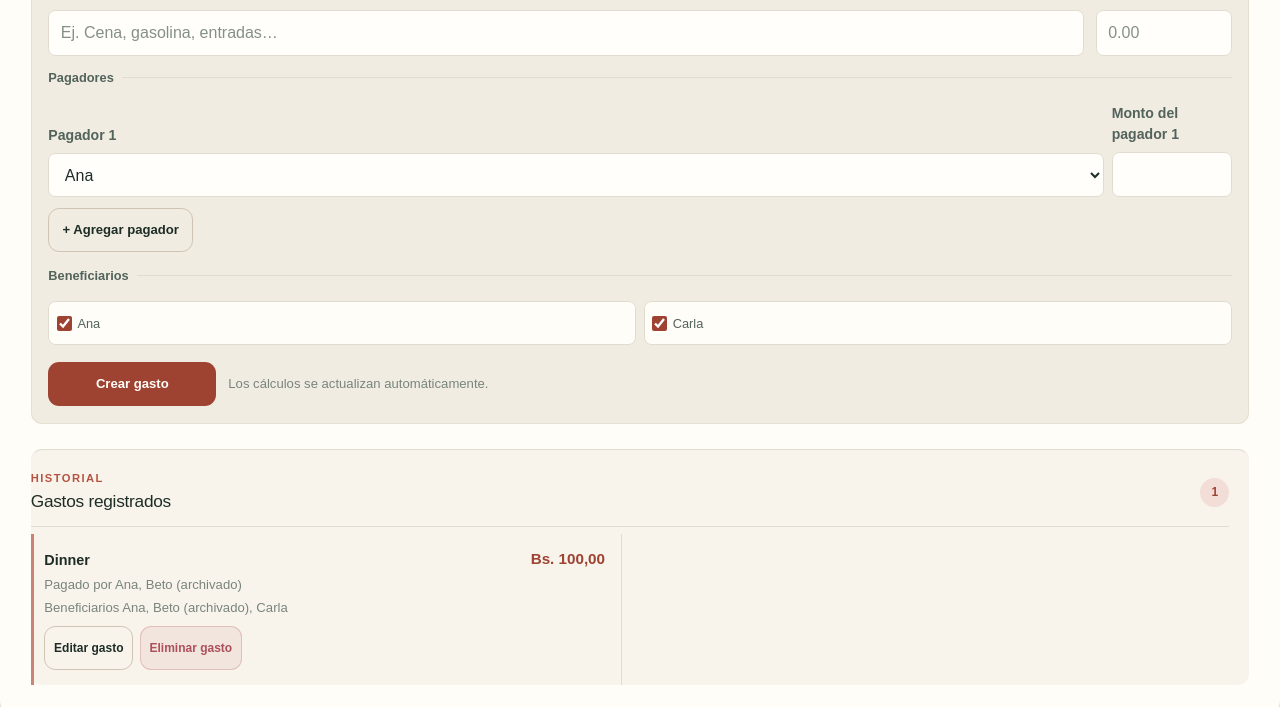
Test: expenses panel › keeps referenced archived participants in an edit form
(page scrolled)
Check: the text "Bs. 100,00" is shown, box [531,548,605,571]
Check: the text "Pagado por Ana, Beto (archivado)" is shown, box [44,577,242,592]
Click the button "Editar gasto": (89, 648) [44,626,133,670]
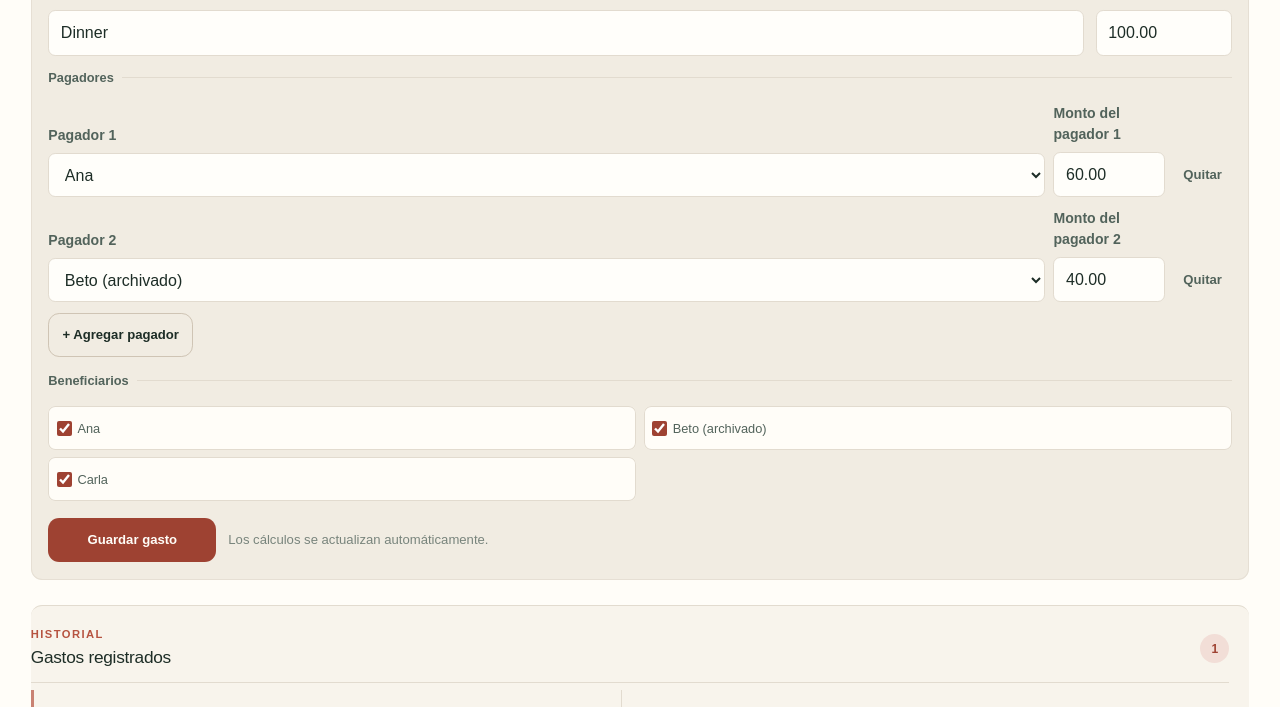
Check: the checkbox named "beneficiario Beto" is checked, box [652,421,667,436]
Check: the checkbox named "beneficiario Beto" is enabled, box [652,421,667,436]
Check: the field showing "Dinner" is shown, box [48,10,1084,56]
